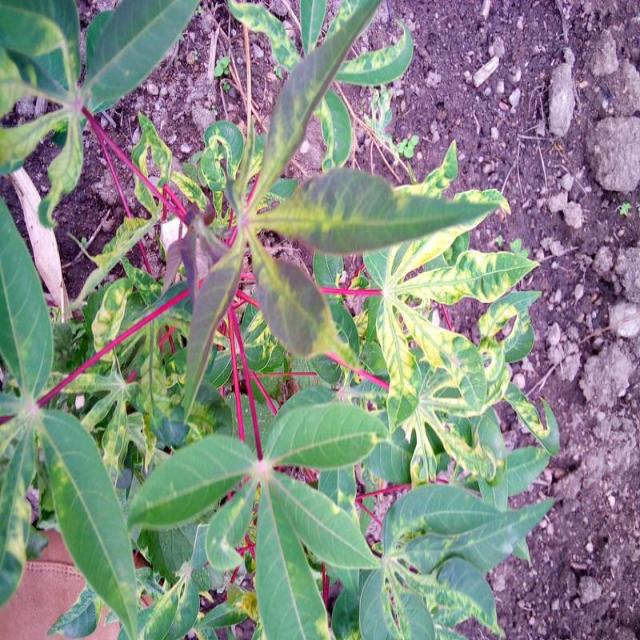cassava leaf: (1, 0, 559, 638), (36, 406, 140, 638), (255, 163, 510, 256), (126, 432, 256, 532)
